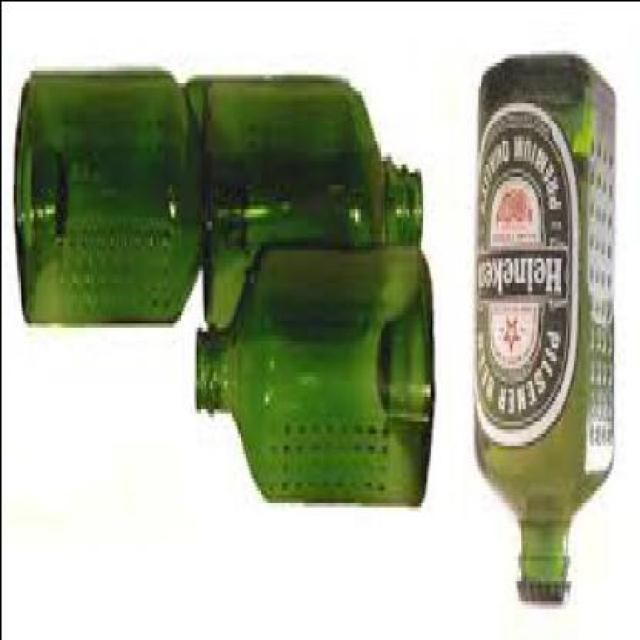GLASS: (479, 61, 616, 599), (195, 248, 433, 510), (14, 69, 246, 326), (207, 73, 424, 330)
METAL: (518, 583, 572, 611)
